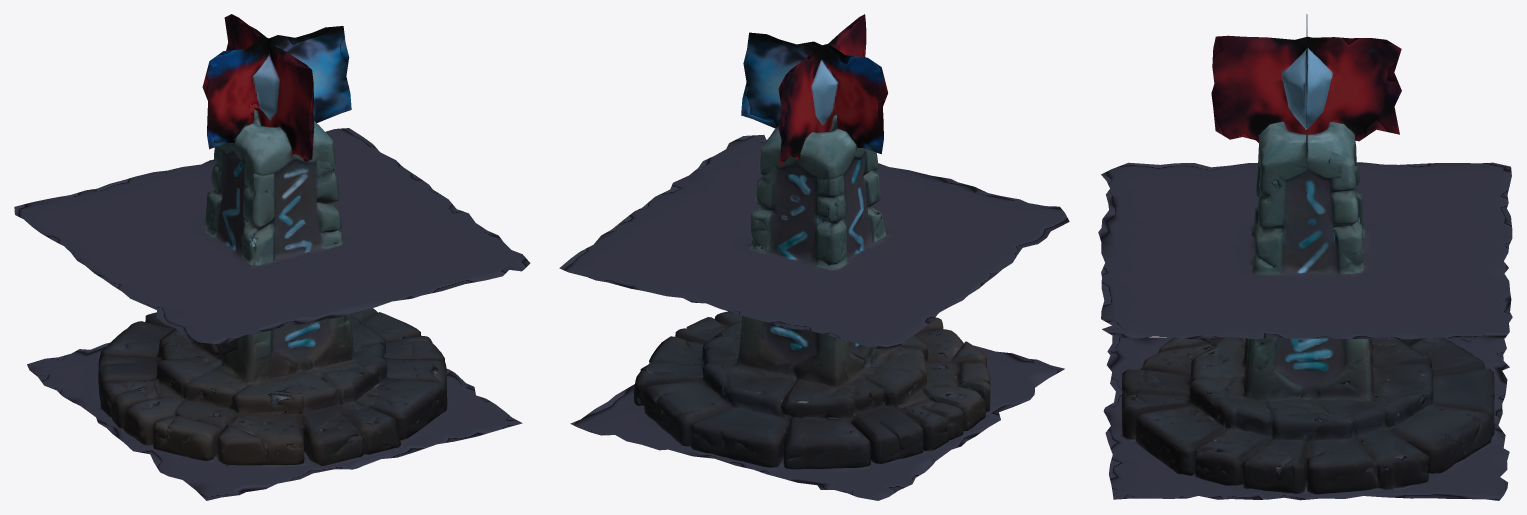
File: lodestone_t1.glb
3 views of the same model, side by side, from view 1: azimuth 30°, elevation 25°; view 2: azimuth 150°, elevation 25°; view 3: azimuth 270°, elevation 25° (orthographic). The views are drawn at different scales.
Visible parts, largest first — view 1: geometry_0; view 2: geometry_0; view 3: geometry_0.
Part boxes in pixels (bbox=[...]): geometry_0: bbox=[14, 14, 530, 500]; geometry_0: bbox=[559, 14, 1069, 500]; geometry_0: bbox=[1098, 14, 1512, 500].
Size of the model in its own units: 0.9919 by 0.9956 by 0.9815.
1 material, 1 textured.
